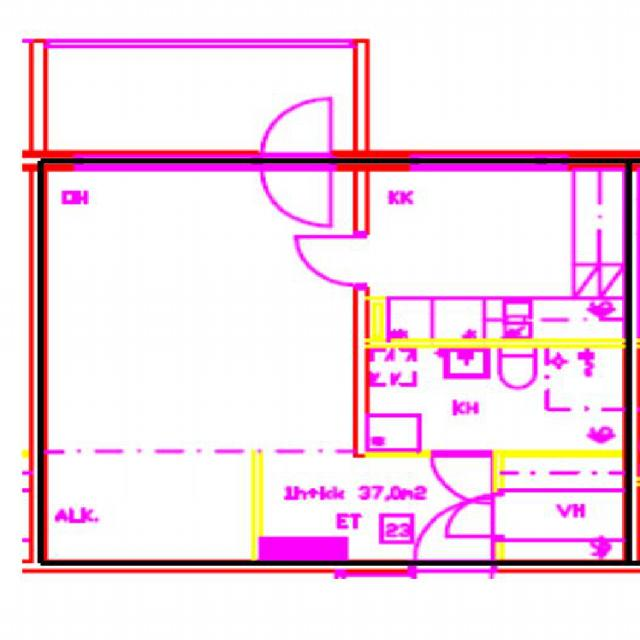door: (414, 559, 491, 634), (414, 497, 491, 571), (261, 94, 330, 170), (261, 152, 330, 226), (293, 236, 368, 285), (432, 449, 490, 504), (442, 495, 504, 536)
